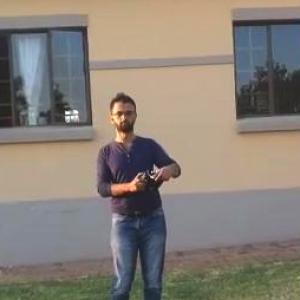follow: (91, 90, 190, 299)
